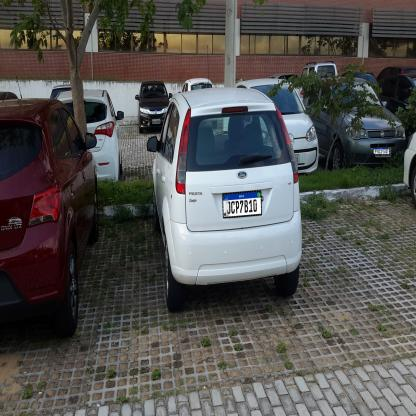PlacaM: (222, 190, 262, 218), (374, 148, 390, 154)
